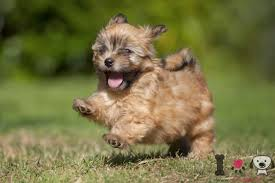dog: (68, 5, 224, 157)
